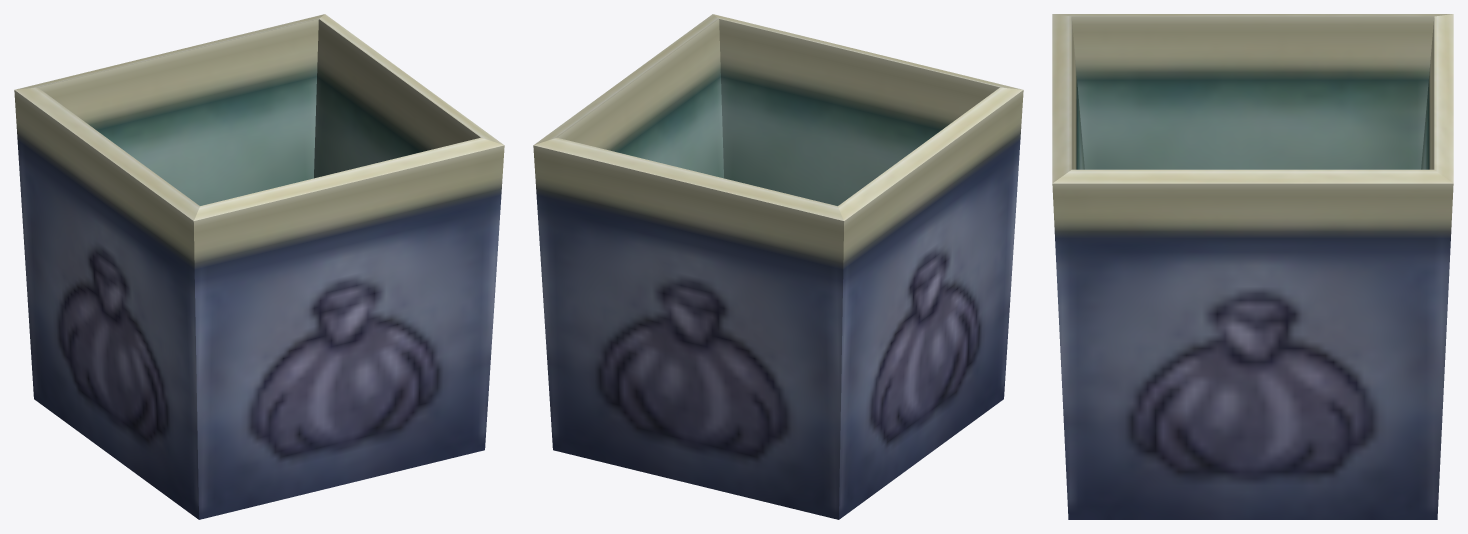
File: a_SWAtrash01.glb
3 views of the same model, side by side, from view 1: azimuth 30°, elevation 25°; view 2: azimuth 150°, elevation 25°; view 3: azimuth 270°, elevation 25° (orthographic). The views are drawn at different scales.
Visible parts, largest first — view 1: a_SWAtrash01; view 2: a_SWAtrash01; view 3: a_SWAtrash01.
Part boxes in pixels (x1=…): a_SWAtrash01: x1=14, y1=14, x2=504, y2=519; a_SWAtrash01: x1=533, y1=14, x2=1023, y2=519; a_SWAtrash01: x1=1052, y1=14, x2=1453, y2=519.
Bounding box in the file's own units: 1 × 0.9595 × 1.
Materials: 1 (1 with a texture image).
